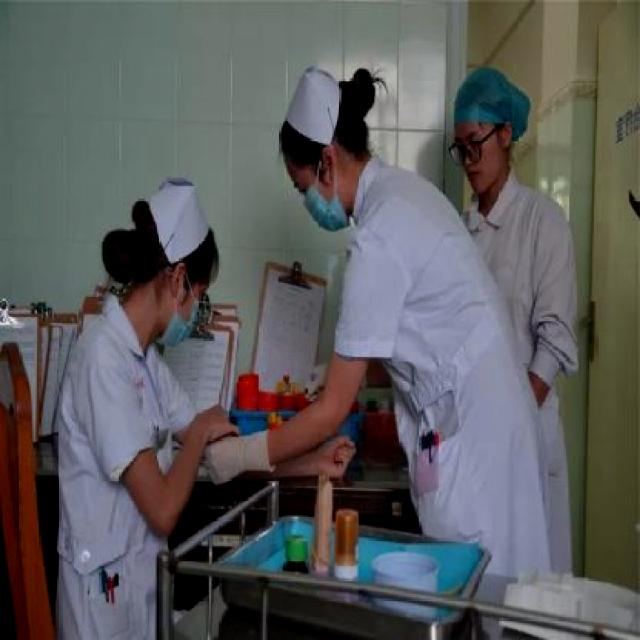face_mask: (151, 263, 223, 345), (297, 158, 355, 240)
face_nomask: (446, 119, 508, 184)
hand_glove: (205, 429, 252, 488)
hand_noglove: (195, 403, 240, 445), (318, 432, 357, 477)
head_nohelmet: (274, 64, 332, 190), (448, 78, 526, 140), (175, 228, 232, 277)
person: (275, 69, 517, 565), (57, 166, 240, 640), (452, 65, 568, 386)
